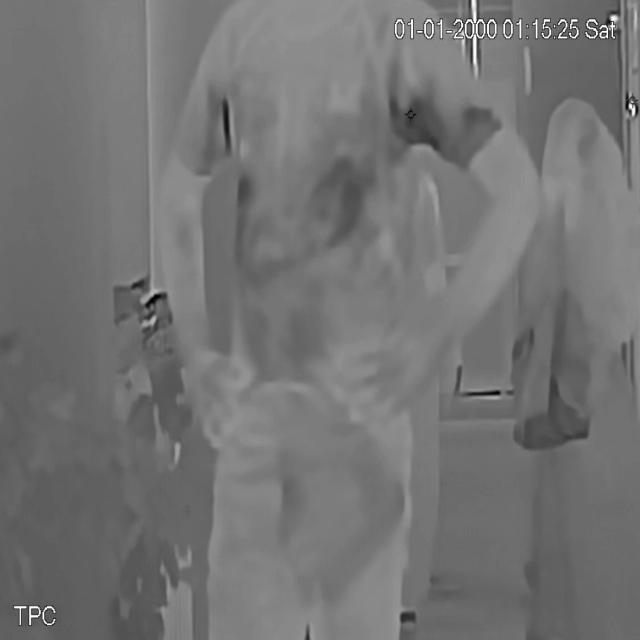Weapon: (314, 460, 413, 610)
